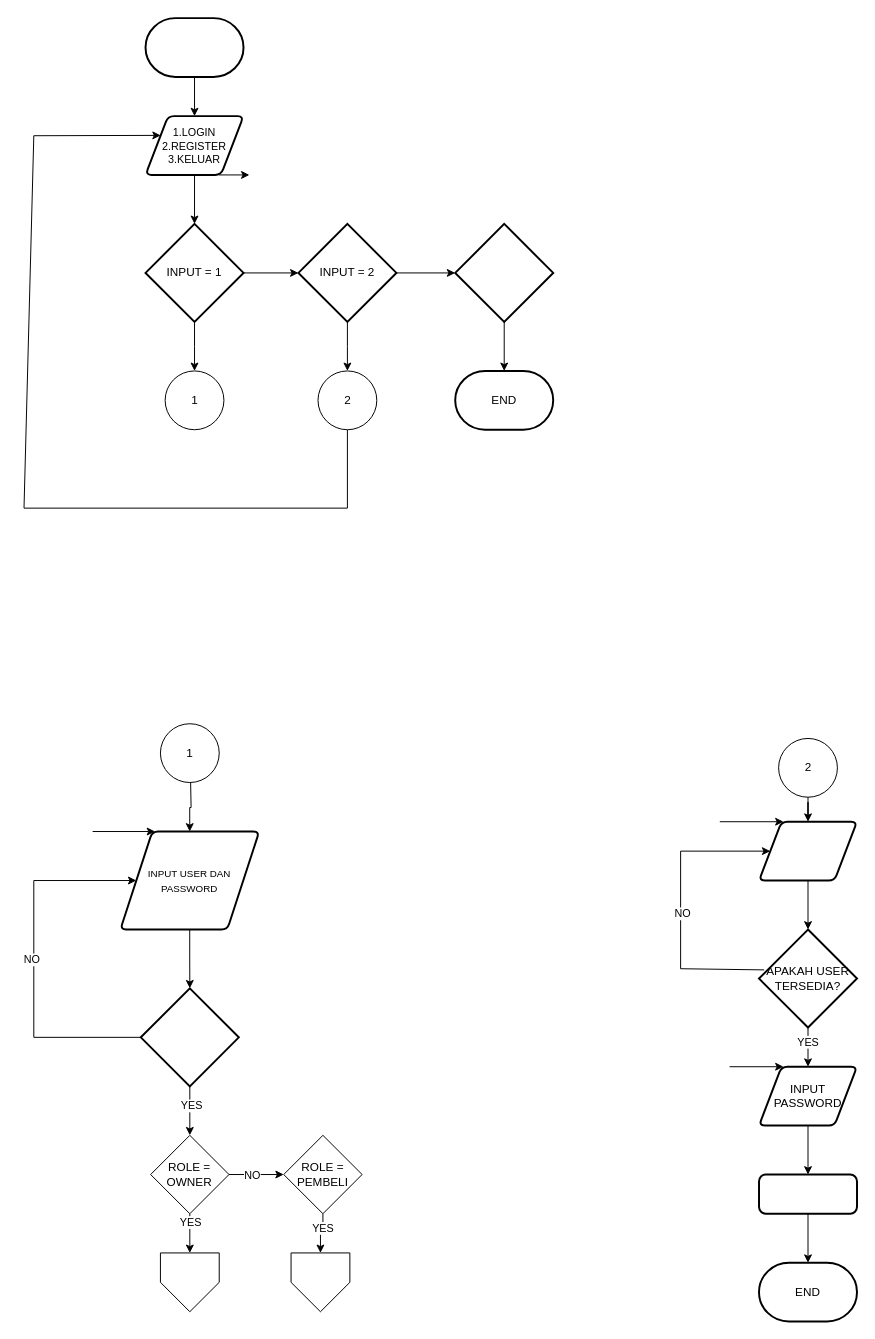
Image size: 875x1339. Some labels were removed from this diagram. The centre of each missing label's shape, as x and y in pixels:
INPUT = 0: the point at 504,272
INPUT USER: the point at 808,850
LOGIN VALID?: the point at 189,1037
OWNER: the point at 189,1282
PEMBELI: the point at 320,1282
START: the point at 194,47
TAMBAH USER BARU: the point at 808,1193
